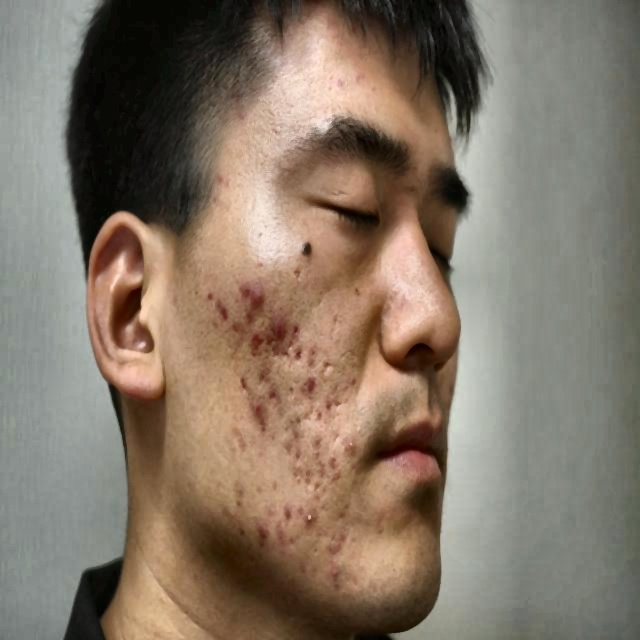papule: (313, 560, 346, 604), (288, 544, 317, 594), (315, 441, 336, 488), (266, 311, 292, 348), (288, 454, 312, 493), (241, 276, 268, 309), (293, 368, 317, 405), (309, 402, 331, 441), (212, 294, 236, 326), (290, 330, 309, 369), (240, 327, 267, 354), (338, 434, 360, 466), (250, 398, 268, 432), (325, 536, 346, 564), (267, 376, 283, 410), (249, 509, 265, 542), (304, 496, 320, 529), (230, 485, 244, 522), (237, 366, 255, 392), (269, 506, 288, 526), (277, 524, 290, 553)
